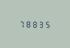eight: (30, 19, 35, 28), (24, 19, 29, 27)
five: (42, 20, 47, 28)
seven: (18, 19, 23, 27)
three: (36, 20, 41, 28)
